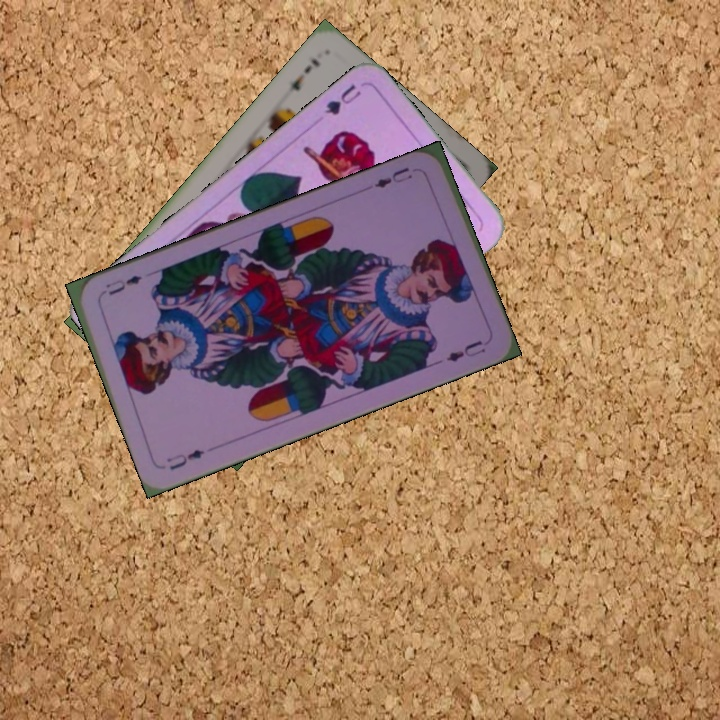E7: (286, 54, 322, 94)
EU: (370, 163, 415, 191), (162, 445, 207, 473)
GU: (320, 80, 364, 118)
